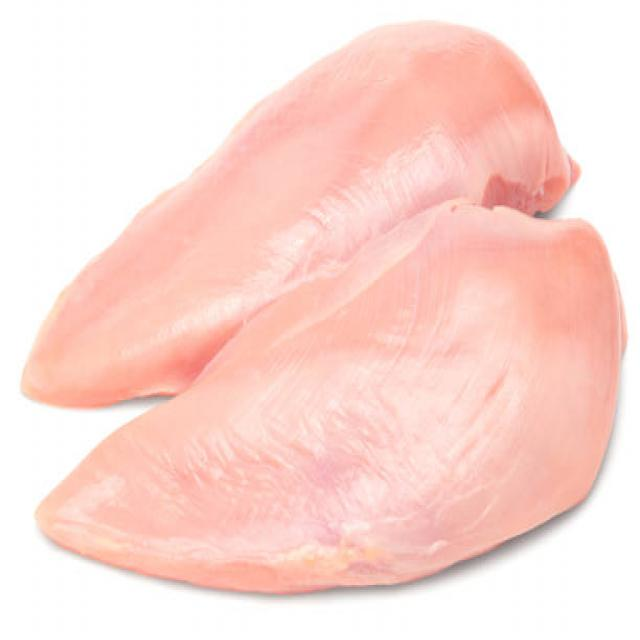chicken thigh: (124, 344, 627, 585), (122, 16, 597, 199)
